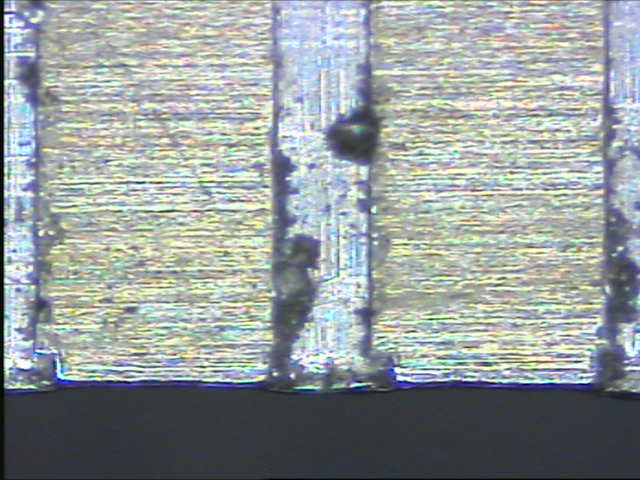line: (270, 1, 374, 392)
